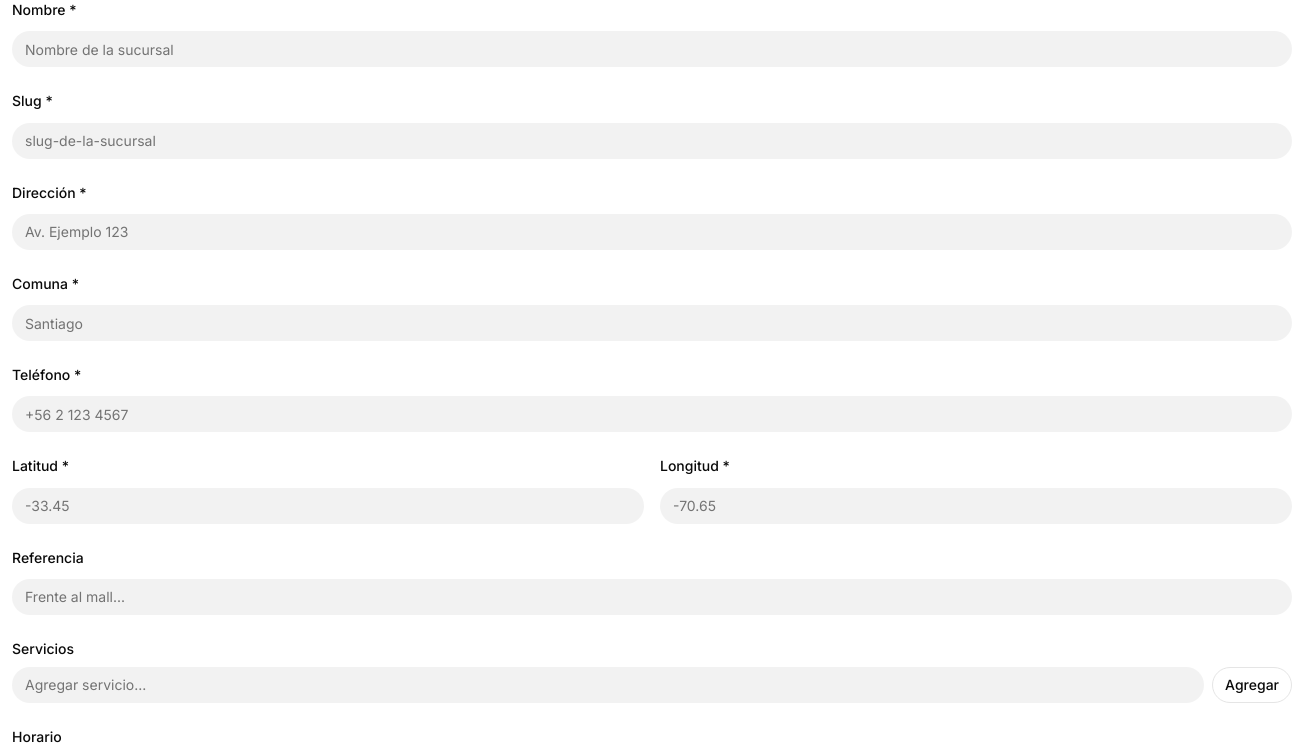
StoreForm › services chip input — typing + Enter adds chip; clicking × removes (S15)
Step 1. Type "Veterinaria" into the field with placeholder "Agregar servicio..." → (608, 685), box top-left (12, 667), bottom-right (1204, 703)
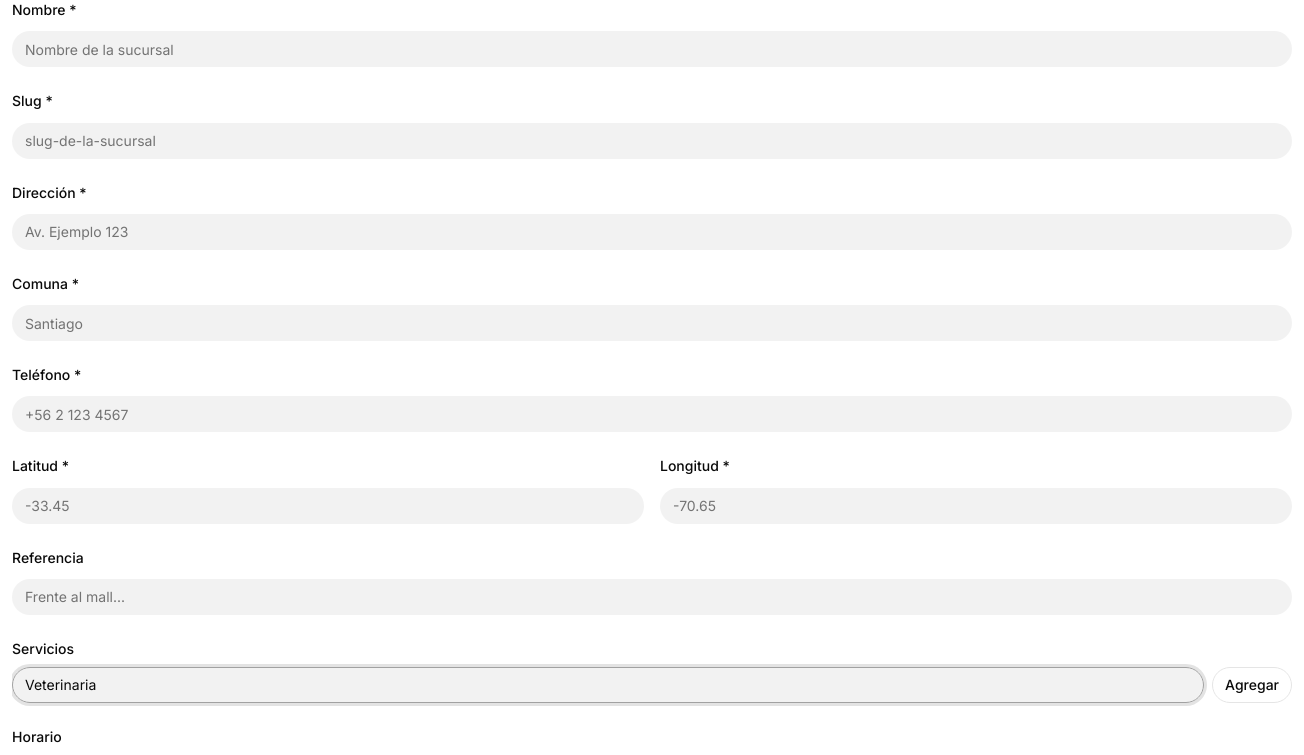
Step 2. Press Enter
(page scrolled)
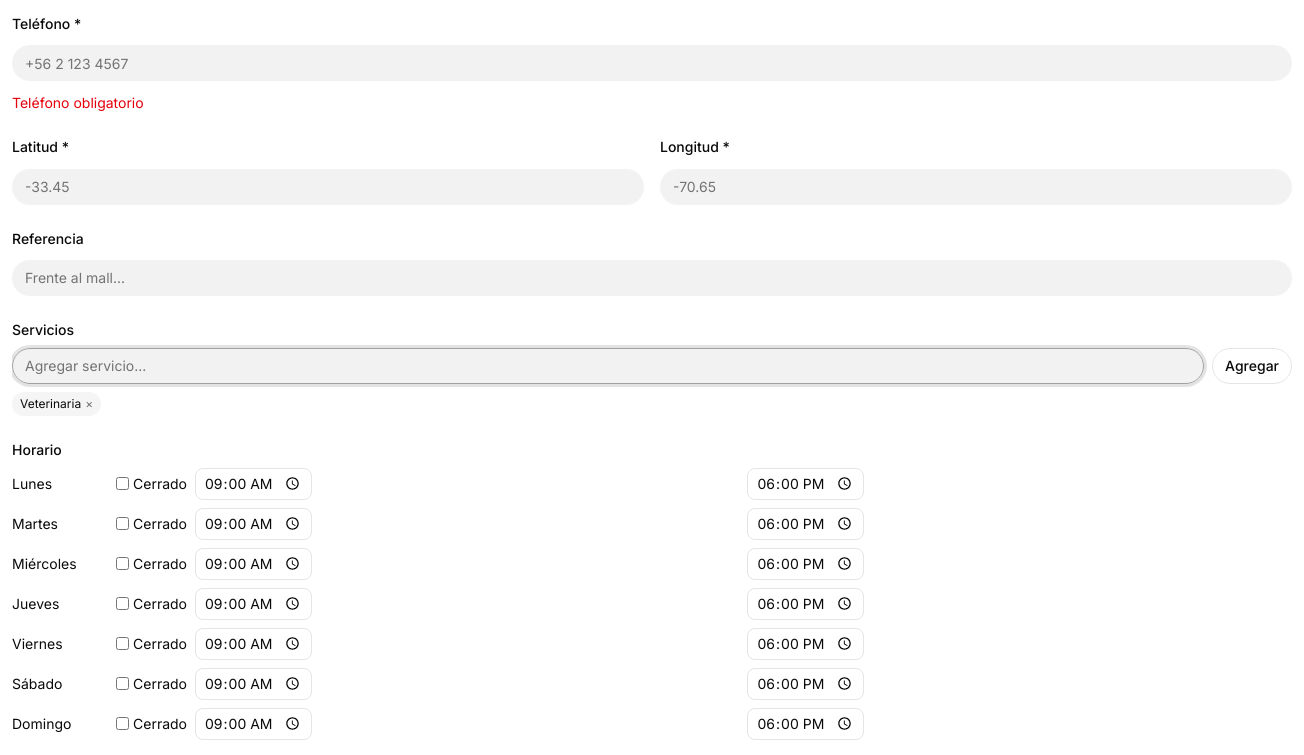
Now the text "Veterinaria" is shown, box top-left (20, 396), bottom-right (81, 411)
# Remove the chip
Step 3. Click the button named "eliminar veterinaria" → click(89, 404), box top-left (85, 396), bottom-right (93, 412)
(page scrolled)
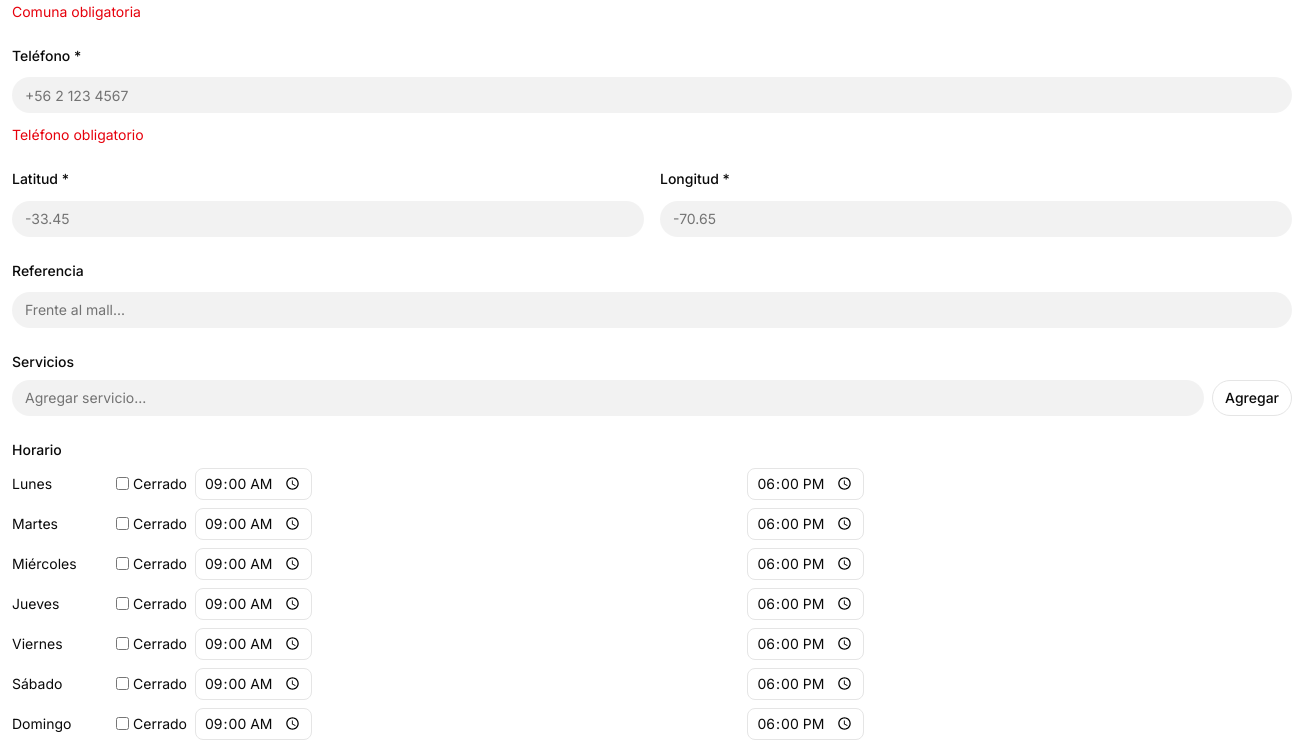
Now the text "Veterinaria" is gone
